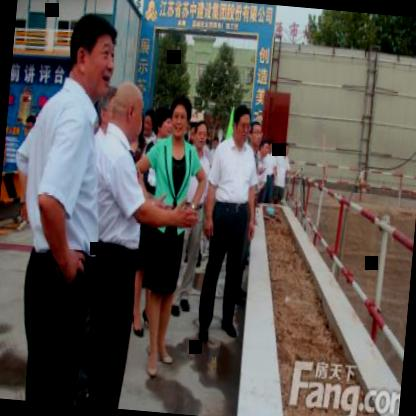head: (66, 11, 124, 97), (110, 73, 146, 144), (165, 92, 194, 142), (231, 102, 254, 150), (153, 109, 175, 143), (192, 115, 212, 150), (140, 109, 158, 143), (248, 118, 264, 152), (260, 136, 271, 162)
